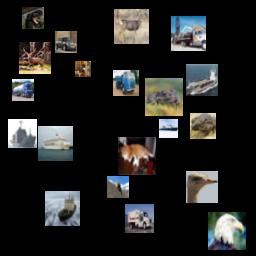automobile: (55, 31, 77, 53)
bird: (208, 212, 246, 250), (186, 171, 218, 203), (107, 176, 129, 198)
cat: (75, 61, 91, 77)
deer: (114, 9, 149, 44), (19, 42, 51, 74)
dog: (118, 137, 156, 175), (22, 7, 44, 29)
frog: (145, 78, 183, 116), (190, 113, 216, 139)
ship: (38, 126, 73, 161), (45, 191, 80, 226), (186, 64, 218, 96), (8, 119, 37, 148), (159, 119, 178, 138)
truck: (171, 16, 206, 51), (125, 204, 154, 233), (113, 70, 139, 96), (12, 79, 34, 101)
